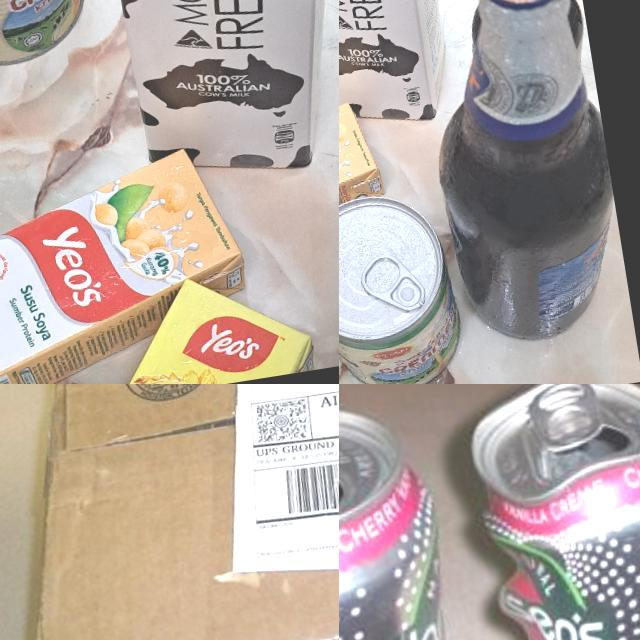aba de lata: (524, 384, 609, 457), (356, 248, 428, 318)
caixinha: (0, 143, 262, 384), (81, 0, 339, 191), (86, 258, 319, 384), (339, 0, 470, 141), (339, 98, 391, 265)
garrafa de vidro: (400, 0, 633, 351), (446, 0, 590, 84)
lata: (462, 384, 640, 640), (339, 387, 494, 640), (339, 186, 468, 384)
papelão: (0, 384, 339, 640)
